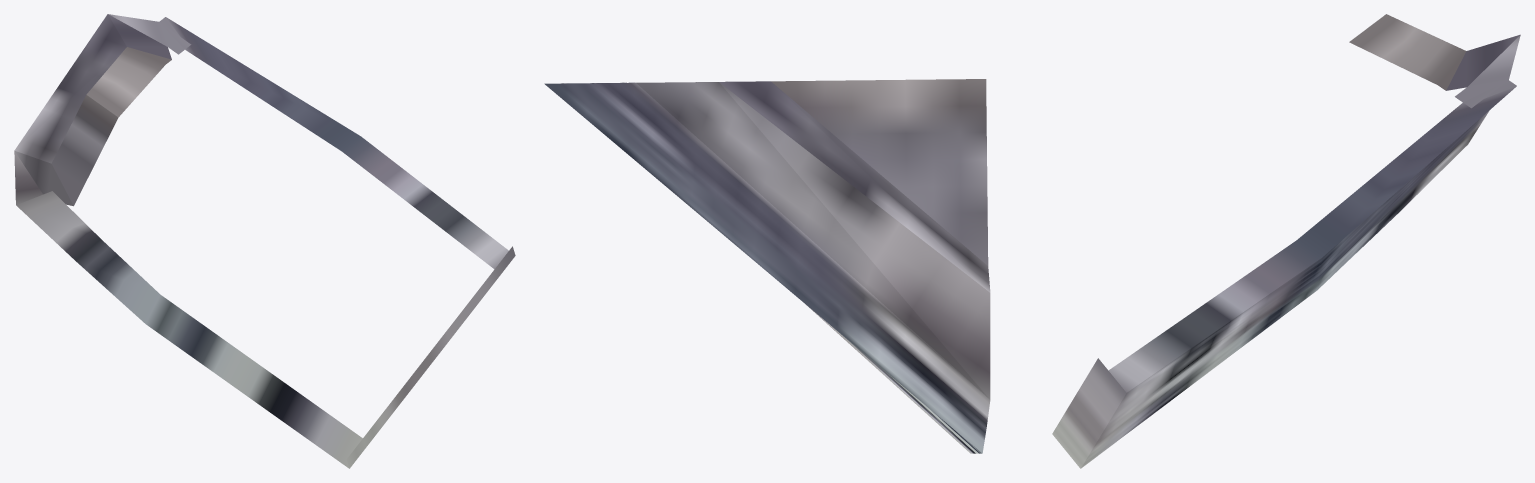
3 renders of one model, left to right at view 1: azimuth 30°, elevation 25°; view 2: azimuth 150°, elevation 25°; view 3: azimuth 270°, elevation 25°, orthographic. The views are drawn at different scales.
Bounding box in the file's own units: 9.48 × 8.47 × 8.98.
Materials: 1 (1 with a texture image).
